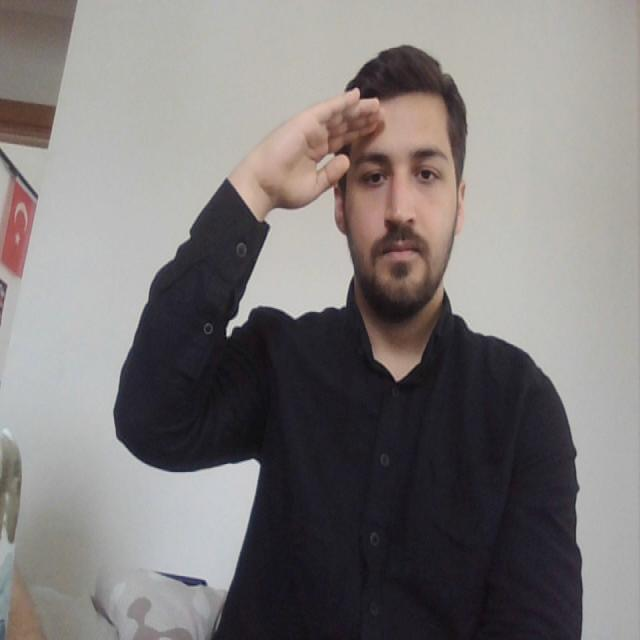Merhaba: (236, 37, 395, 247)
